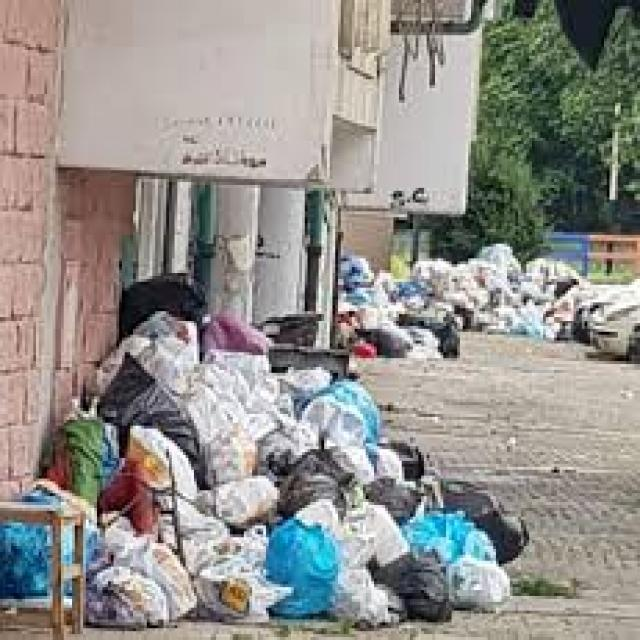garbage: (0, 233, 572, 640)
